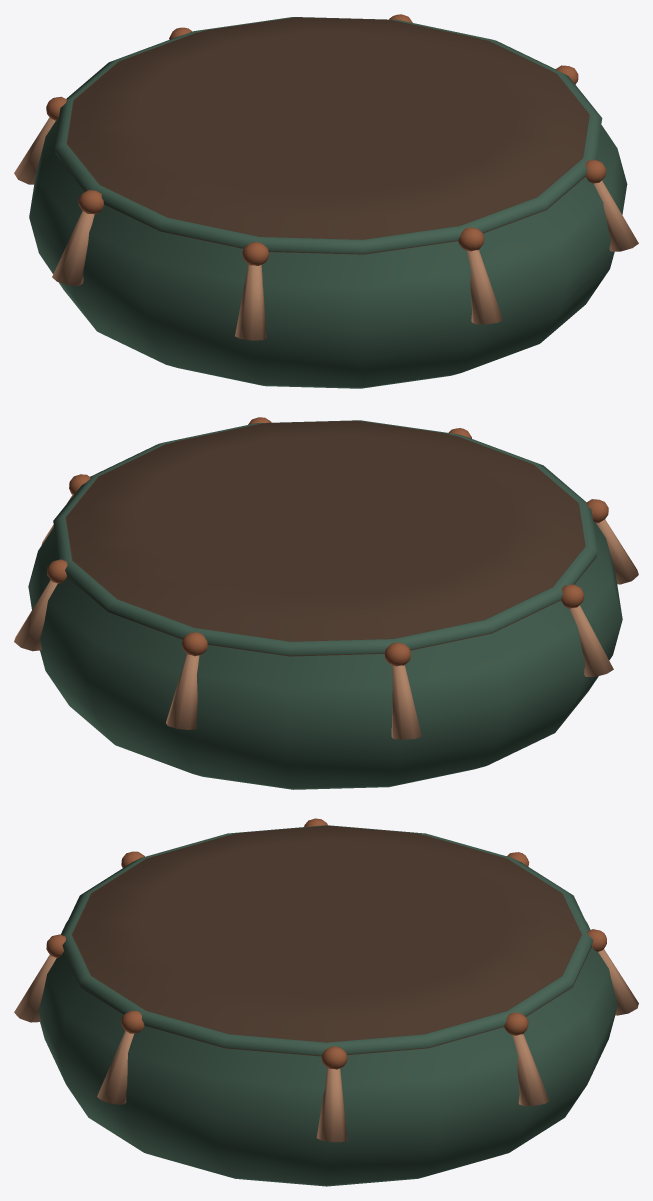
Rendered from fbx_pillow_03.fbx.
The picture shows the model from 3 angles, top to bottom: view 1: azimuth 30°, elevation 25°; view 2: azimuth 150°, elevation 25°; view 3: azimuth 270°, elevation 25°; orthographic projection. The views are drawn at different scales.
Visible parts, largest first — view 1: Cylinder.001; view 2: Cylinder.001; view 3: Cylinder.001.
Part boxes in pixels (<box>): Cylinder.001: <box>14,14,638,388</box>; Cylinder.001: <box>14,417,638,789</box>; Cylinder.001: <box>14,818,638,1186</box>.
Size of the model in its own units: 2.78 by 0.8268 by 2.77.
